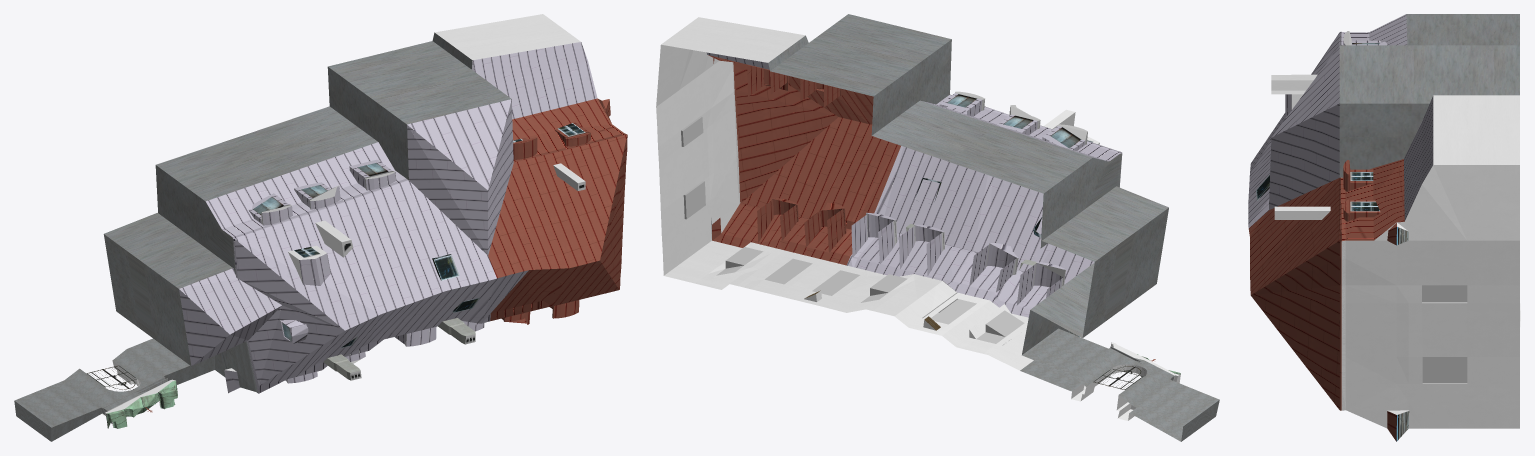
Rendered from Suur-Kloostri_14_1-origo.obj.
3 views of the same model, side by side, from view 1: azimuth 30°, elevation 25°; view 2: azimuth 150°, elevation 25°; view 3: azimuth 270°, elevation 25° (orthographic). The views are drawn at different scales.
Visible parts, largest first — view 1: Suur_Kloostri_14_1; view 2: Suur_Kloostri_14_1; view 3: Suur_Kloostri_14_1.
Boxes of the visible parts, left/top/right/bottom form: Suur_Kloostri_14_1: left=14, top=14, right=627, bottom=441; Suur_Kloostri_14_1: left=656, top=14, right=1219, bottom=441; Suur_Kloostri_14_1: left=1248, top=14, right=1520, bottom=441.
Bounding box in the file's own units: 35.25 × 17.5 × 13.5.
